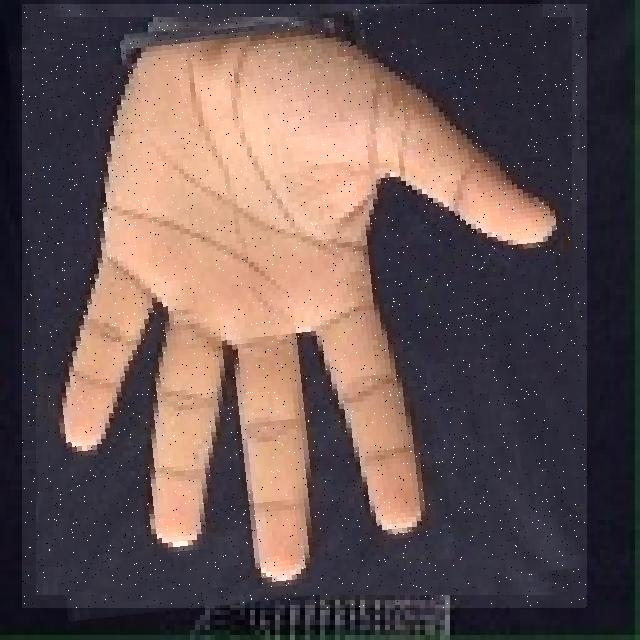Yes: (22, 4, 587, 608)
